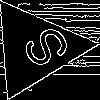S: (11, 23, 74, 77)
